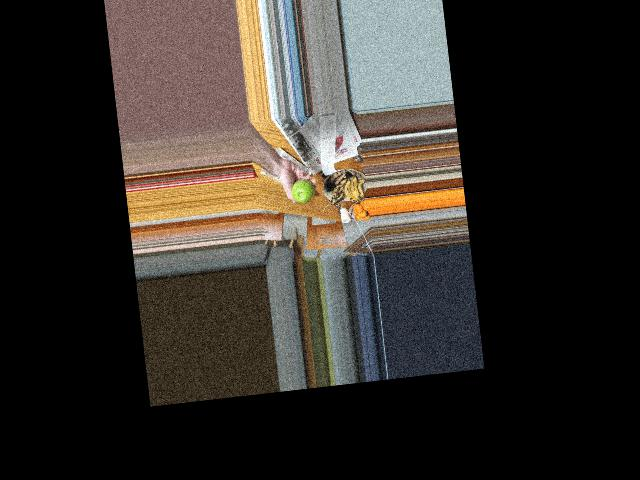apple: (290, 178, 316, 204)
